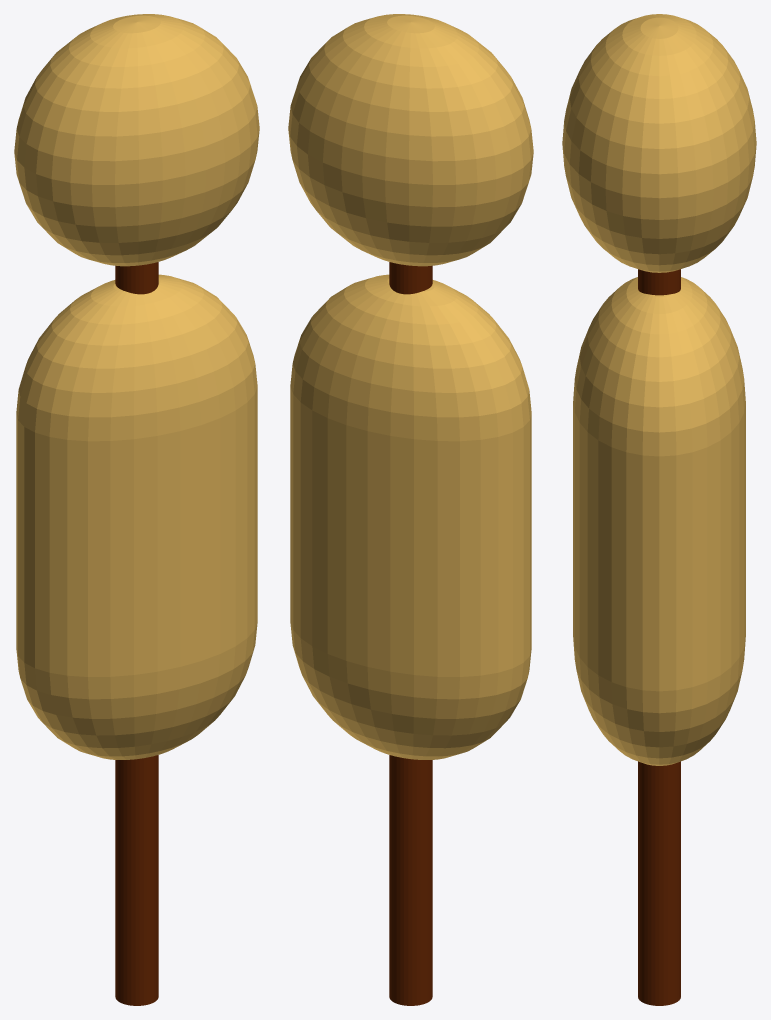
File: dummy.dae
The picture shows the model from 3 angles, left to right: view 1: azimuth 30°, elevation 25°; view 2: azimuth 150°, elevation 25°; view 3: azimuth 270°, elevation 25°; orthographic projection.
Visible parts, largest first — view 1: Cylinder; view 2: Cylinder; view 3: Cylinder.
Part boxes in pixels (bbox=[...]): Cylinder: bbox=[14, 14, 259, 1005]; Cylinder: bbox=[288, 14, 533, 1005]; Cylinder: bbox=[562, 14, 756, 1005].
Bounding box in the file's own units: 2 × 1.5 × 8.27.
